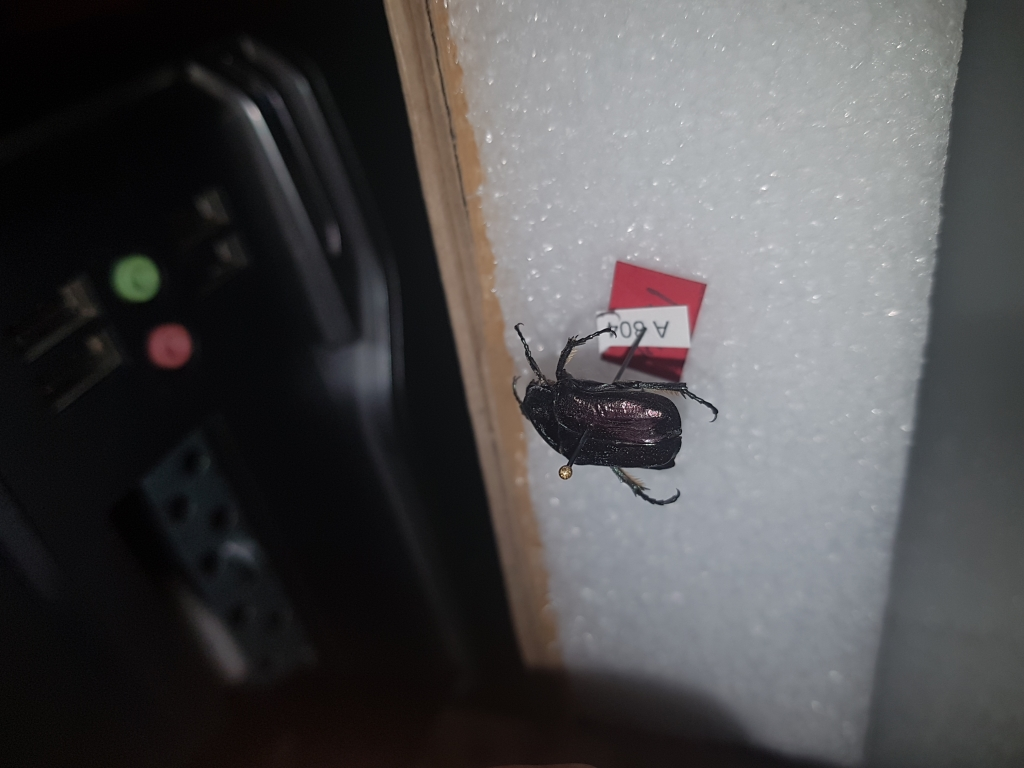Protaetia_besucheti: (479, 307, 727, 520)
